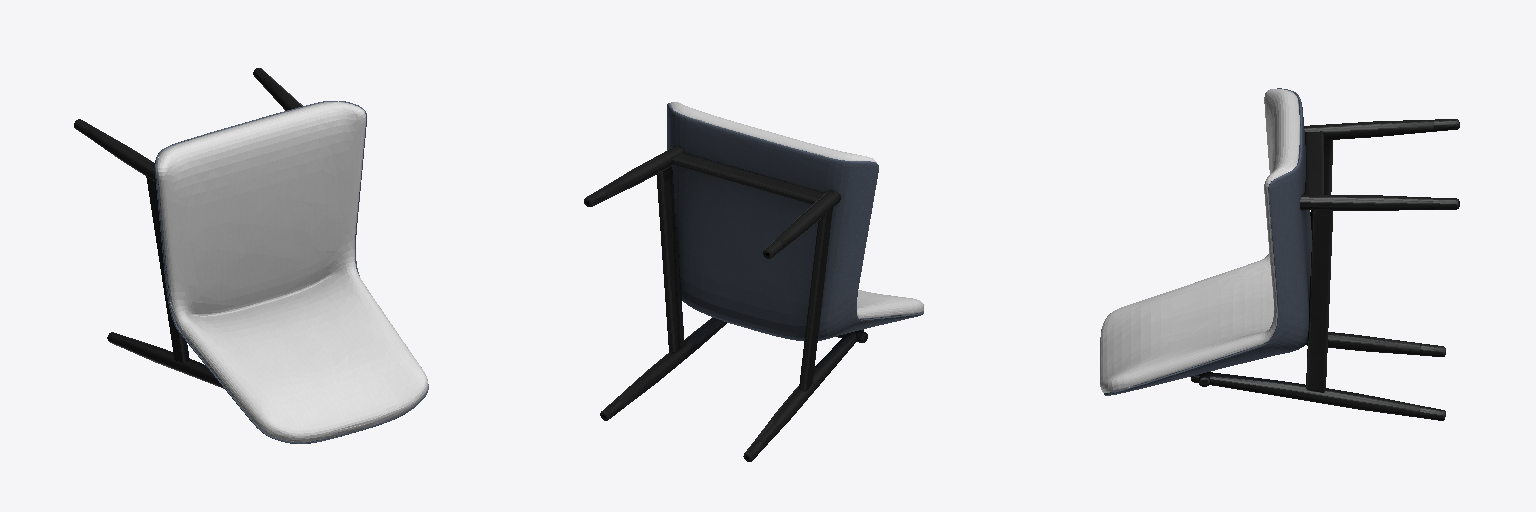
3 renders of one model, left to right at view 1: azimuth 30°, elevation 25°; view 2: azimuth 150°, elevation 25°; view 3: azimuth 270°, elevation 25°, orthographic.
Bounding box in the file's own units: 0.6532 × 0.7752 × 0.9633.
1 materials, 1 textured.